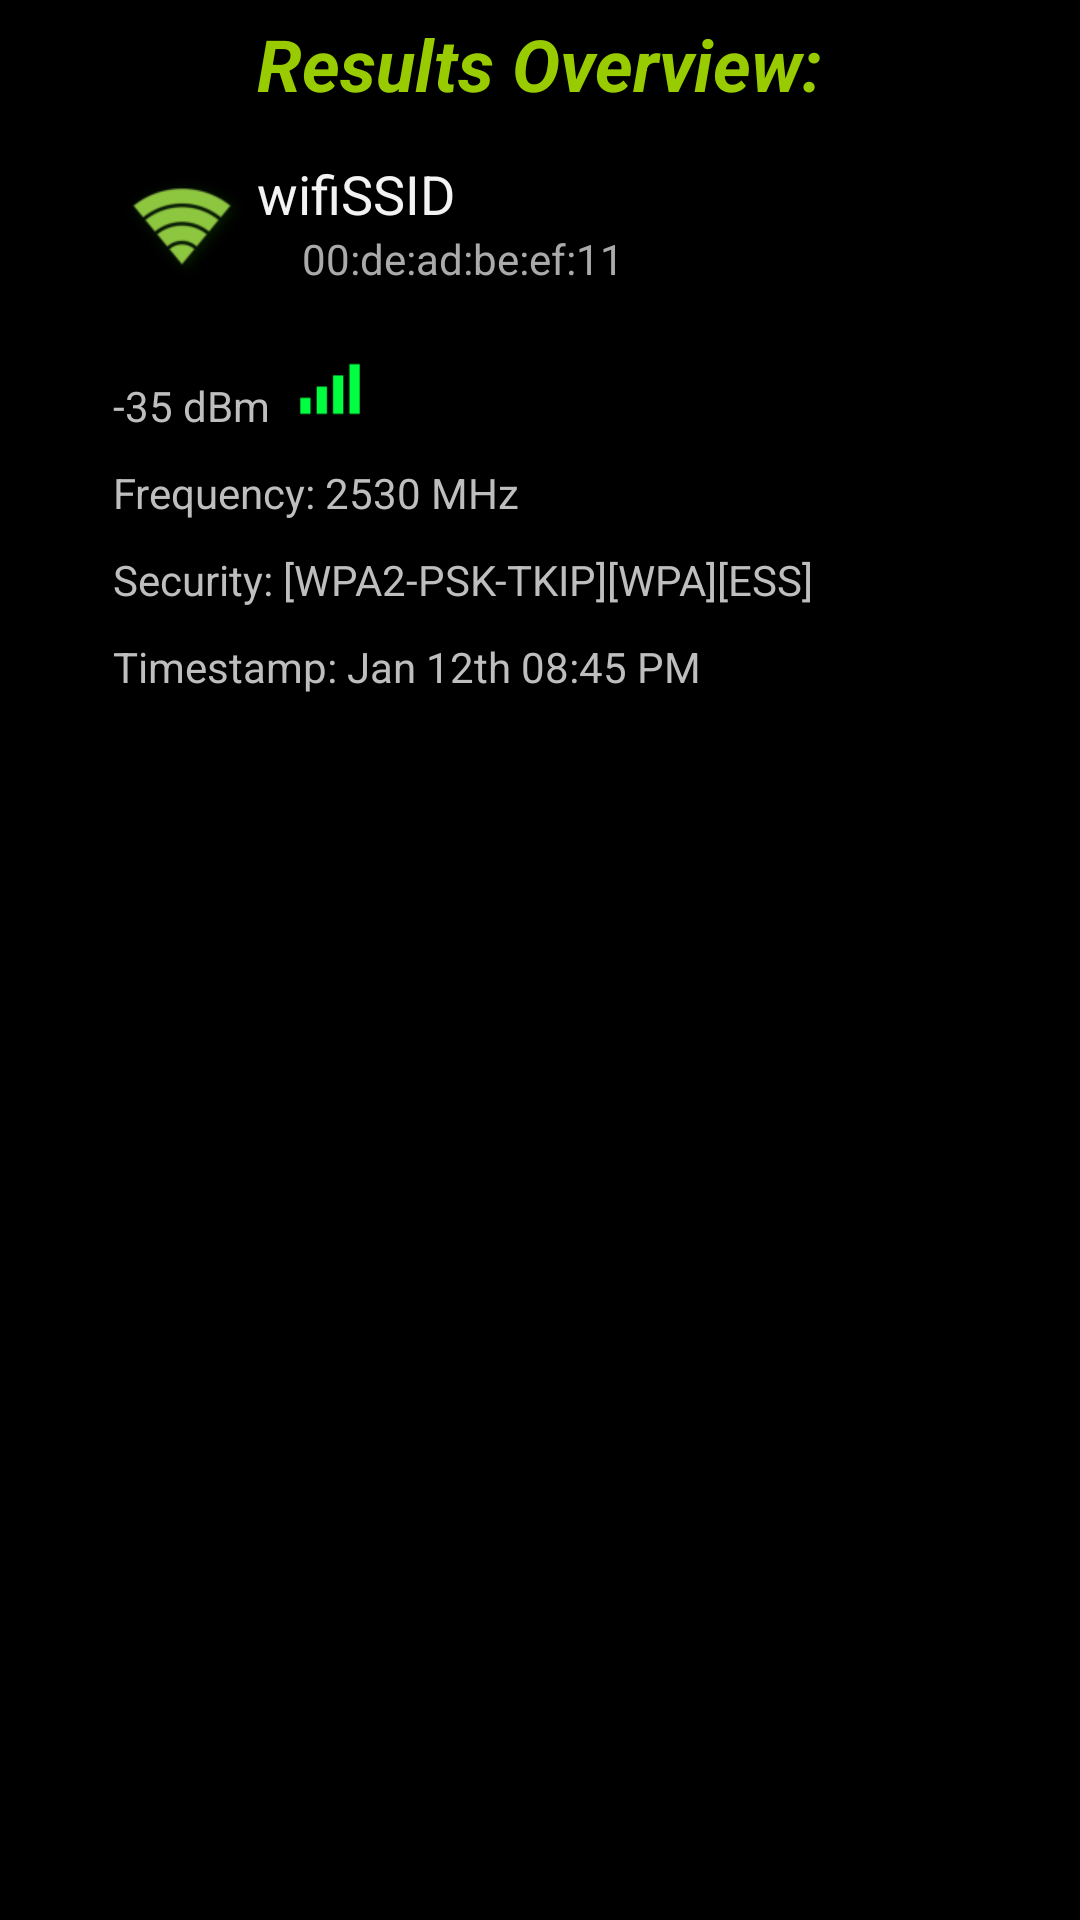

Point at icon controls on the screen. Image size 1080px×1920px, points as point (x, y).
Signal indicator: point (330, 389)
Wireless Security Indiciator: point (182, 226)
